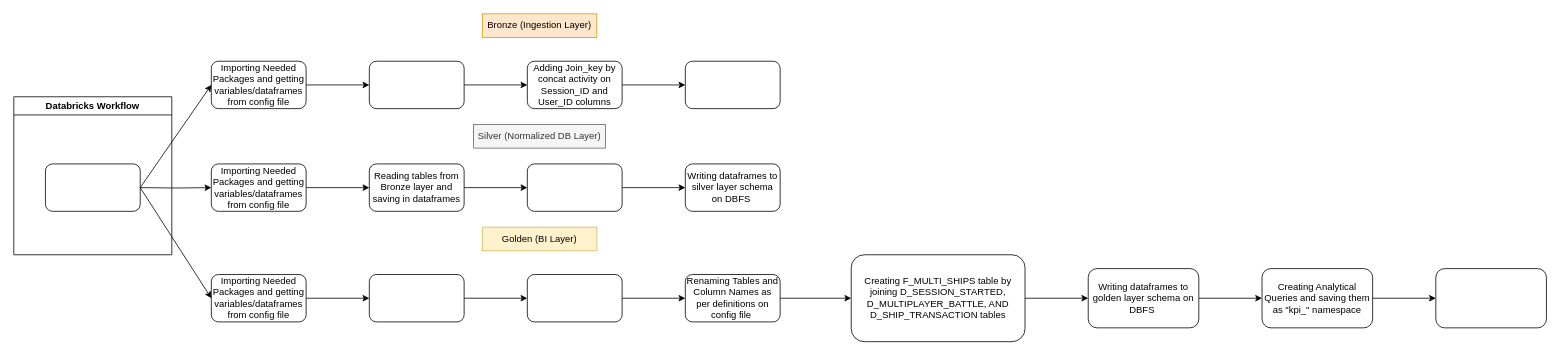
The diagram is 1560 pixels wide and 356 high, and some of its shapes have lost their labels. Here are the shapes that lost their labels. From the top down, the centre of each, then its label:
At pixel 416 84: "Creating raw data holding dataframes by faker package".
At pixel 732 84: "Writing dataframes to bronze layer schema on DBFS".
At pixel 92 187: "Starter Notebook".
At pixel 574 187: "Creating USER_ID dim table from SESSION_STARTED table".
At pixel 416 298: "Getting day period parameter and saving in day_parameter variable".
At pixel 574 298: "Reading tables from Silver layer and saving in dataframes".
At pixel 1490 298: "Writing KPI tables to golden layer schema on DBFS".
